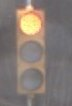Red: (11, 8, 49, 103)
